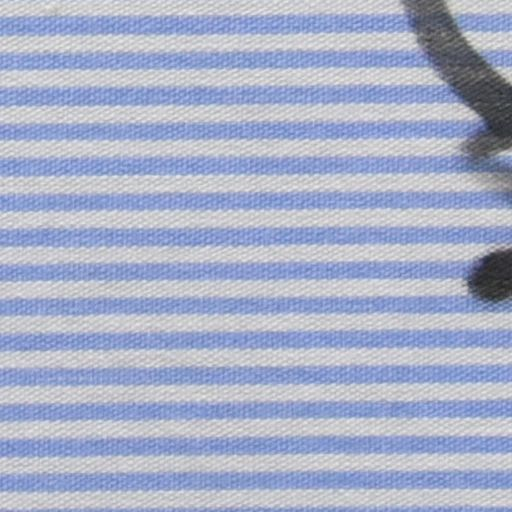defect: (400, 1, 512, 304)
